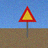sign: (18, 6, 36, 38)
